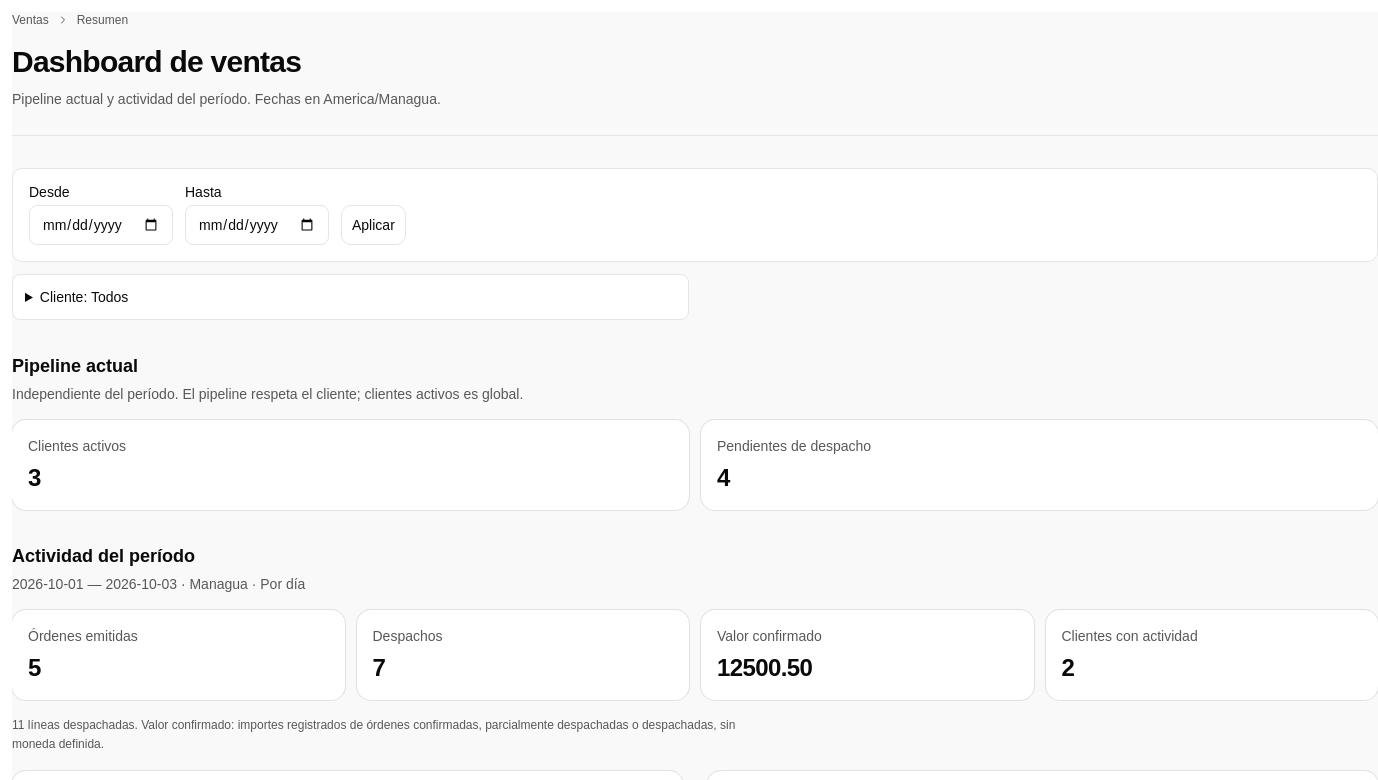
SalesDashboardPage › selects an inactive customer for history and clears back to all customers
Check: the text "Órdenes emitidas" is shown, box [28,628,138,644]
What coordinates should you click on to do the following:
click the heading "Cliente: Todos"
I would click on:
 (84, 297)
Its box is [40,289,128,305].
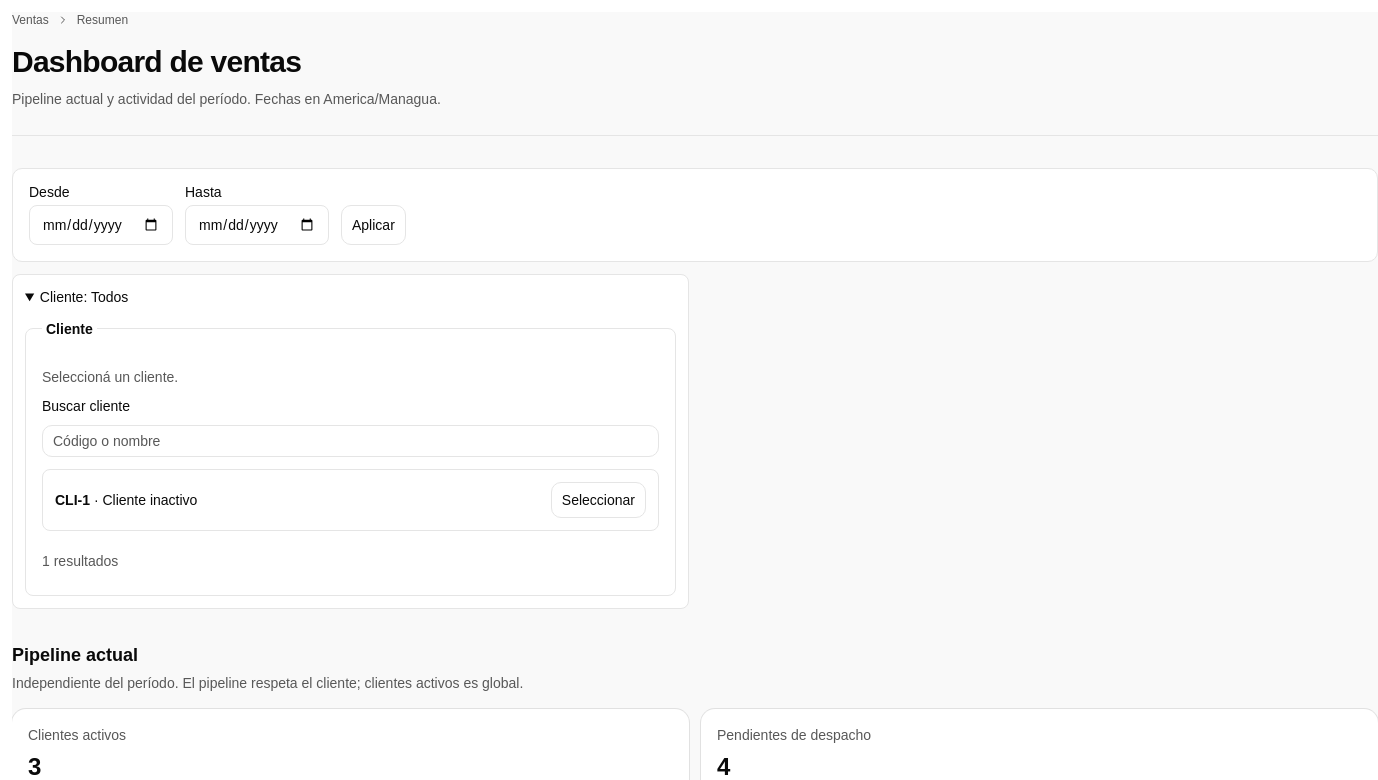
What coordinates should you click on to do the following:
click the button with aria-label "CLI-1 · Cliente inactivo"
I would click on:
 (598, 500)
Its box is [551,482,646,518].
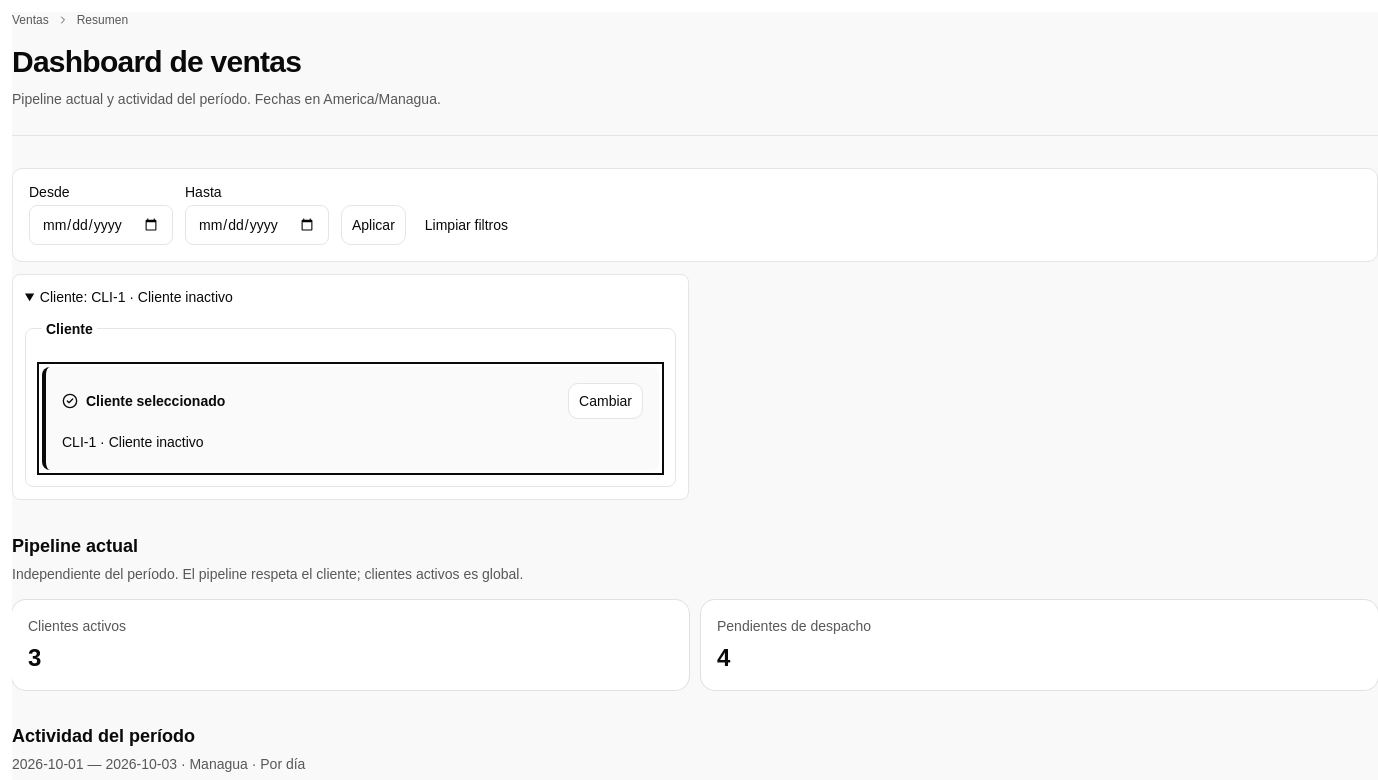
Check: the heading "Cliente: CLI-1 · Cliente inactivo" is shown, box [40,289,233,305]
What coordinates should you click on to do the following:
click the button "Limpiar filtros"
I would click on:
 (466, 225)
Its box is [414,205,519,245].
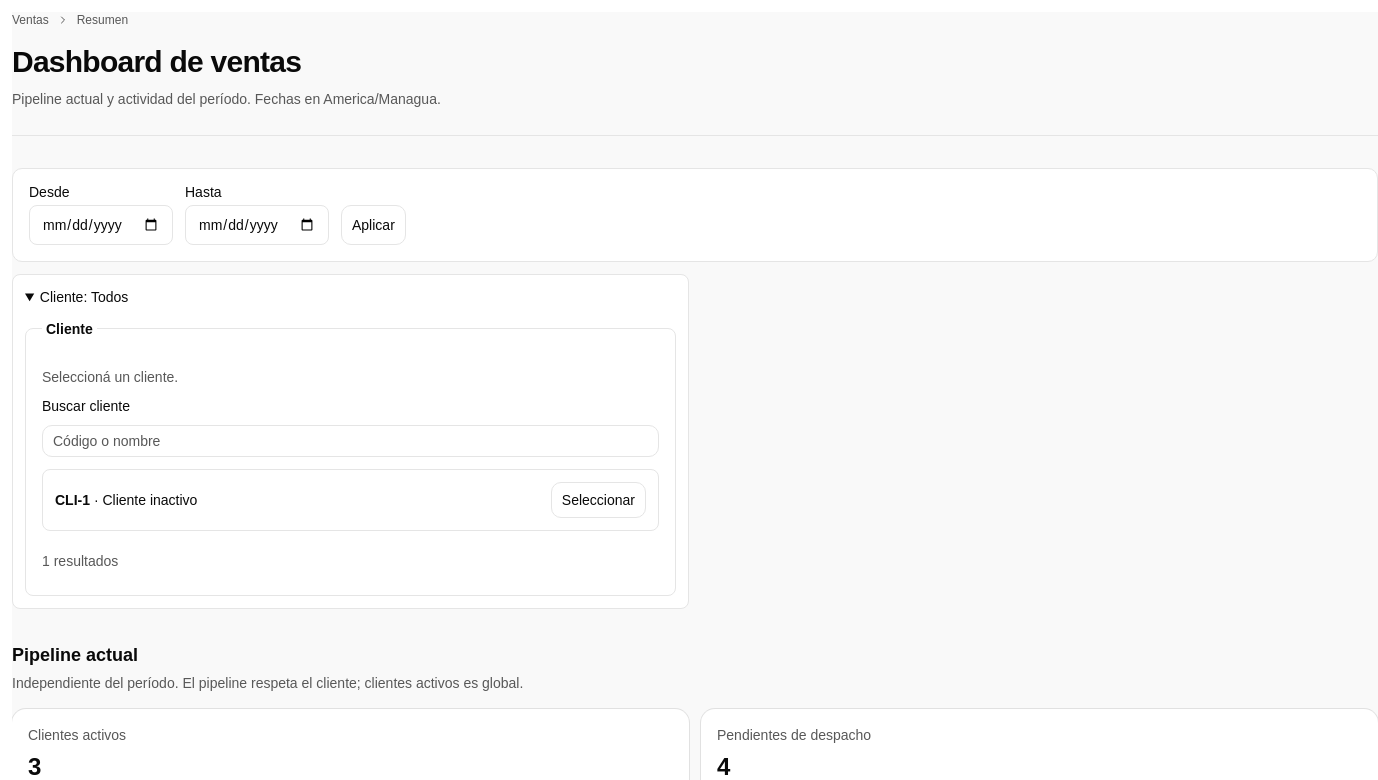
Check: the heading "Cliente: Todos" is shown, box [40,289,128,305]
